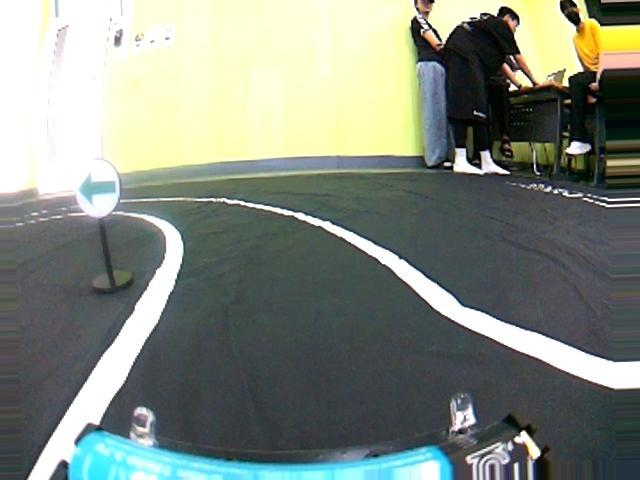sign_left: (69, 158, 126, 216)
straight: (61, 215, 599, 479)
